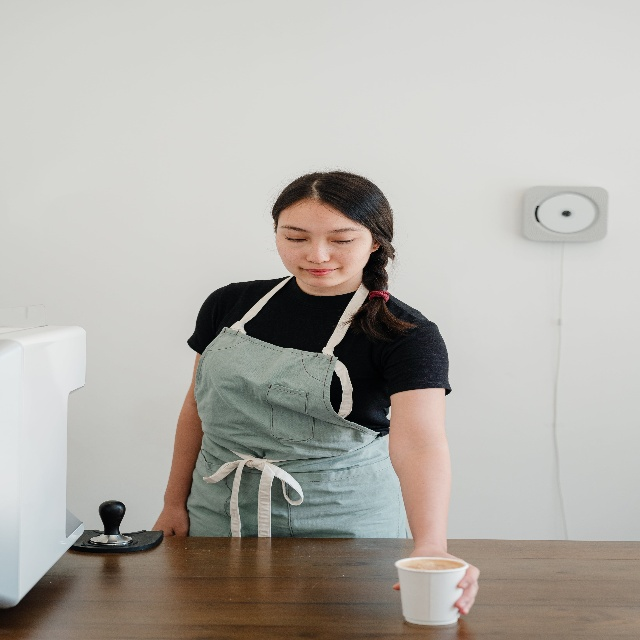Sin_guantes: (392, 534, 480, 614), (153, 502, 188, 536)
